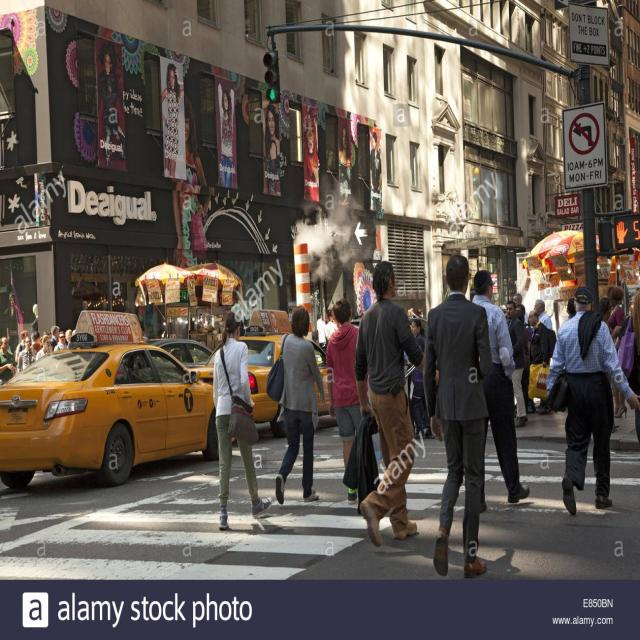body: (419, 248, 497, 578), (352, 259, 426, 550), (546, 285, 639, 515), (468, 270, 530, 505), (210, 307, 275, 531), (264, 301, 327, 506), (159, 52, 213, 268), (326, 296, 371, 504), (393, 525, 524, 588), (93, 38, 128, 171), (614, 285, 640, 453), (406, 318, 435, 440), (527, 310, 557, 414), (599, 295, 622, 429), (606, 284, 628, 420), (213, 74, 238, 188), (505, 300, 527, 428), (259, 92, 281, 195), (299, 97, 321, 198), (366, 123, 385, 216), (246, 521, 294, 555), (2, 291, 39, 332), (337, 110, 352, 201), (532, 298, 553, 339), (0, 337, 17, 385), (17, 336, 38, 374), (13, 329, 30, 366), (316, 311, 329, 348), (513, 288, 527, 322), (35, 333, 51, 362), (325, 314, 339, 341), (30, 330, 43, 354), (49, 324, 60, 352), (53, 331, 68, 351), (564, 298, 576, 319), (406, 308, 426, 317), (66, 327, 76, 344), (627, 299, 635, 317), (39, 329, 50, 342), (498, 300, 506, 313)
